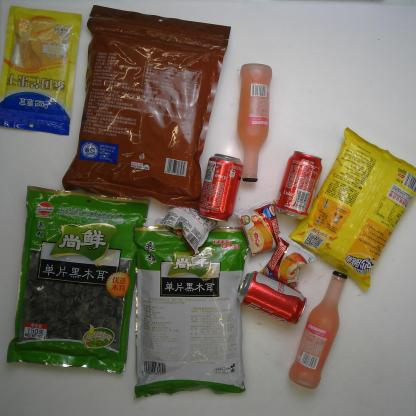Alcohol: (287, 269, 349, 391), (236, 62, 274, 184)
Dessert: (257, 232, 319, 292), (153, 206, 220, 255), (233, 198, 282, 263)
Dried Food: (62, 3, 233, 211), (5, 184, 150, 376), (132, 225, 248, 401)
Dried Fruit: (0, 5, 83, 136)
Drink: (236, 270, 308, 326), (274, 149, 323, 222), (196, 152, 244, 224)
Puffed Food: (287, 124, 416, 295)
